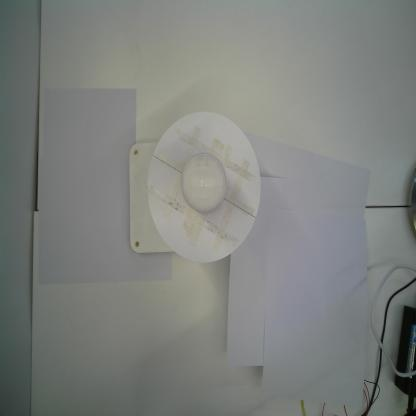Canned Food: (180, 150, 227, 214)
